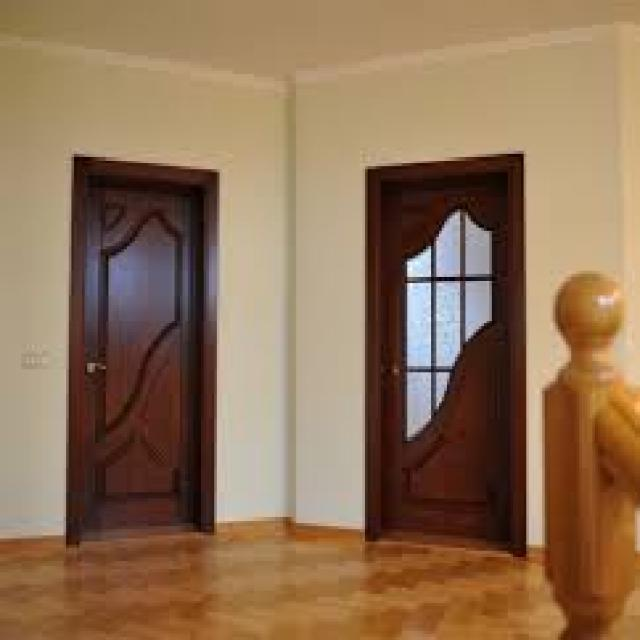door: (375, 162, 526, 549), (78, 148, 220, 538)
